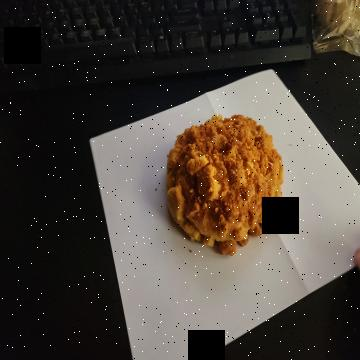soboru_bread: (164, 115, 291, 257)
